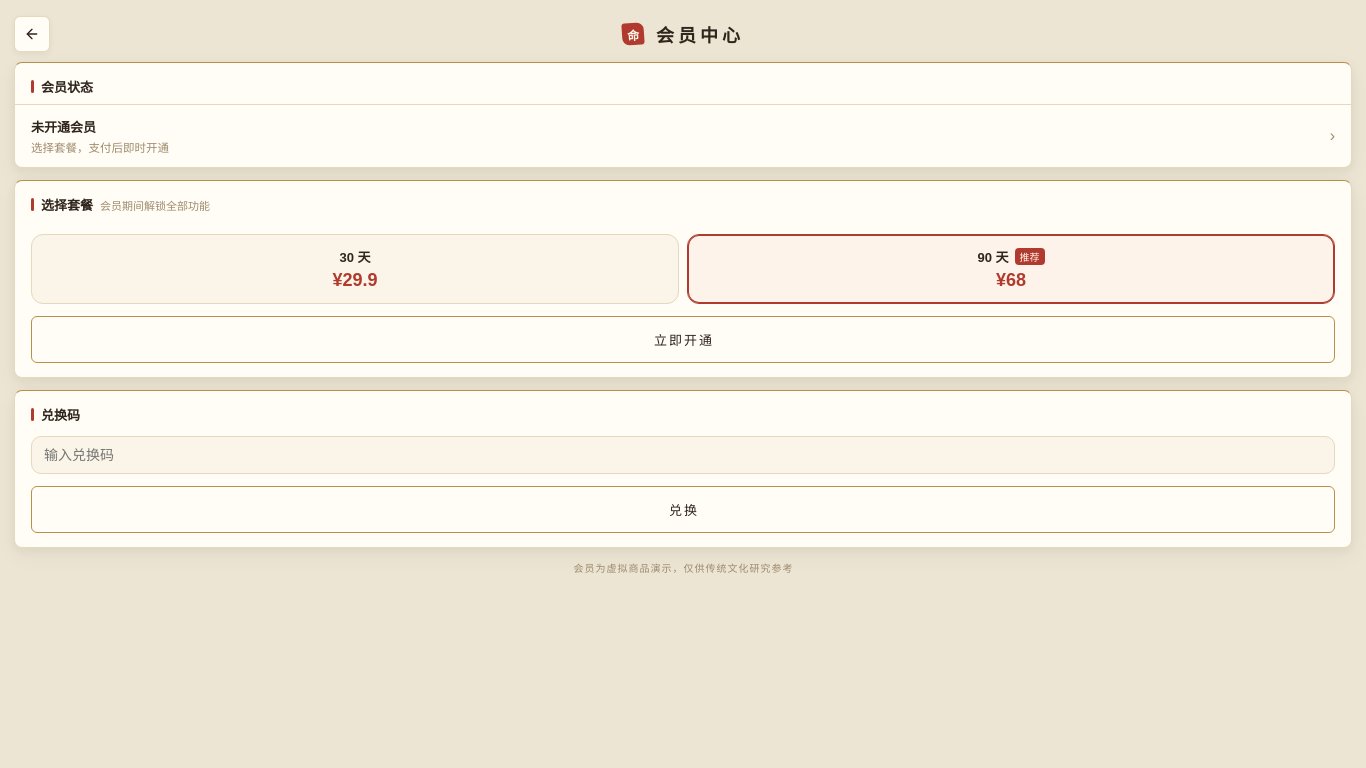
Test: MembershipPage 会员中心 › http 模式：选套餐 → 创建订单 → 模拟支付 → 会员即时开通
Expected: the text "未开通会员" is shown, top-left (31, 120), bottom-right (96, 135)
Click the text "30 天" at x=355, y=256, box top-left (340, 247), bottom-right (371, 266)
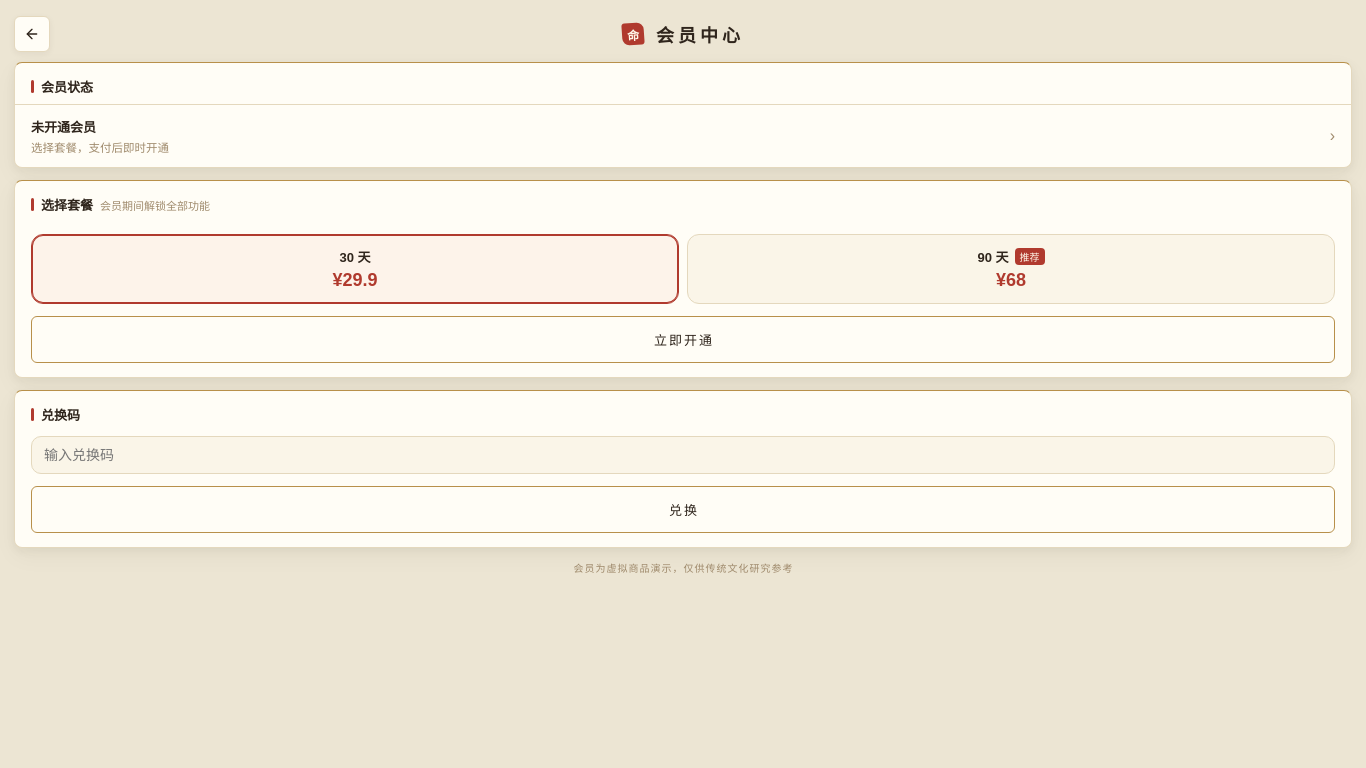
Click the button "立即开通" at x=683, y=340, box top-left (31, 316), bottom-right (1335, 363)
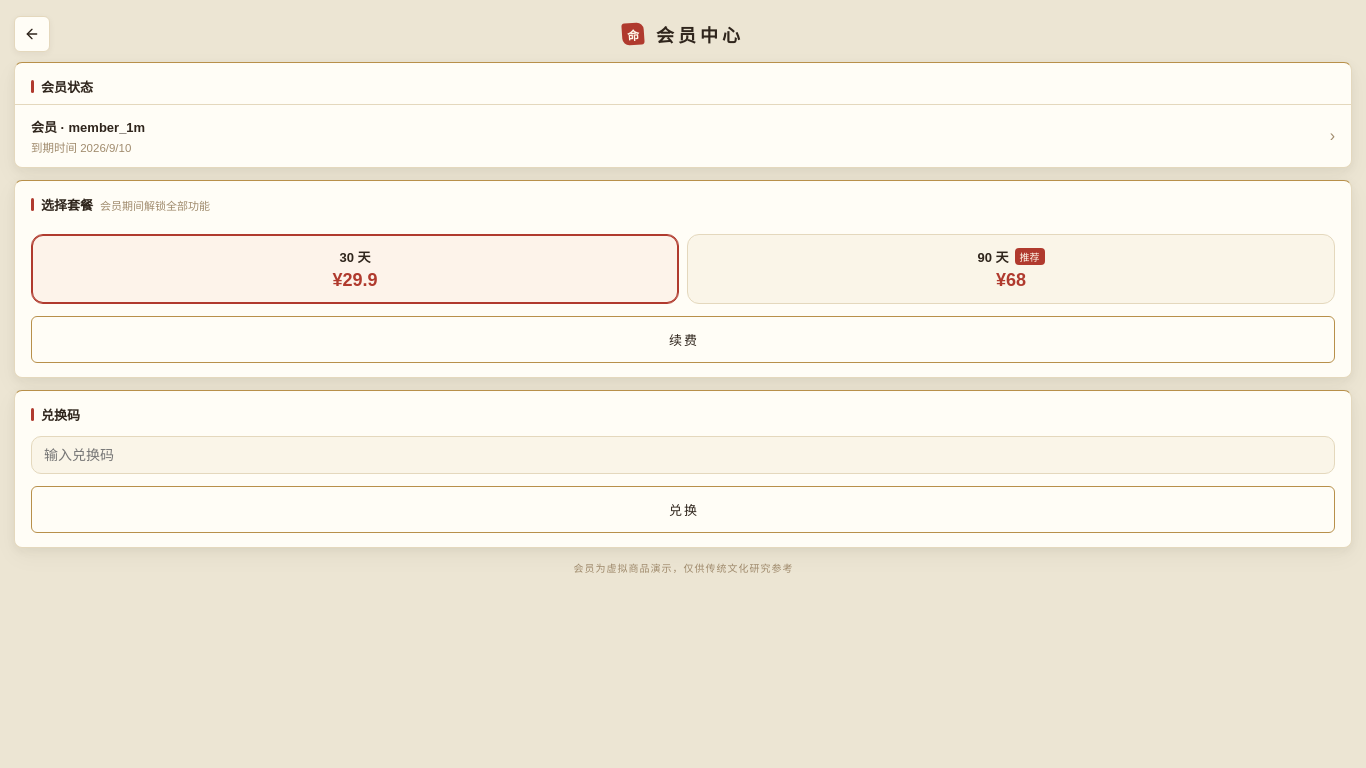
Now the text "会员 · member_1m" is shown, box top-left (31, 117), bottom-right (145, 136)
